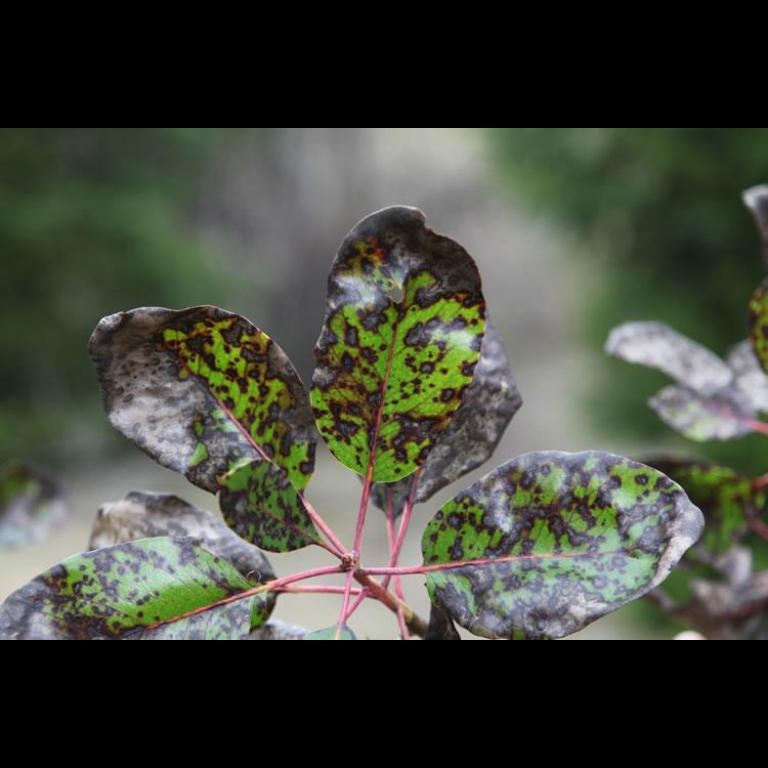blight: (86, 308, 206, 488)
